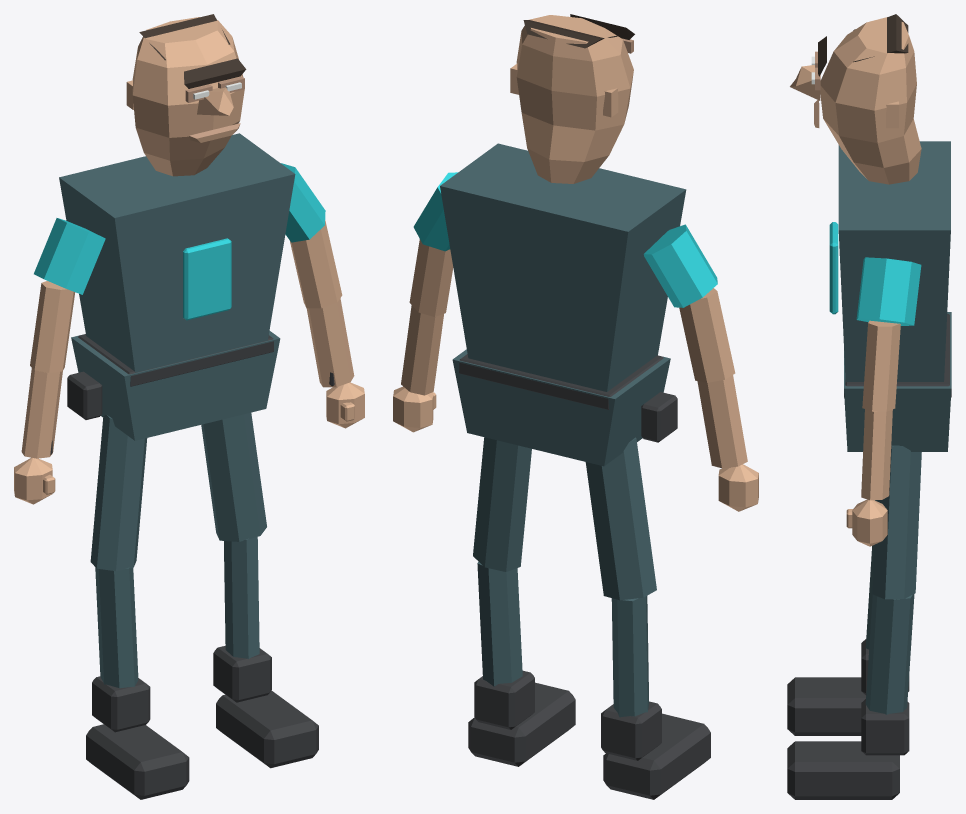
File: lg_duelist_male.glb
3 renders of one model, left to right at view 1: azimuth 30°, elevation 25°; view 2: azimuth 150°, elevation 25°; view 3: azimuth 270°, elevation 25°, orthographic. The views are drawn at different scales.
Parts seen in each view (by area): view 1: LGDuelist_Male_Body; view 2: LGDuelist_Male_Body; view 3: LGDuelist_Male_Body.
Part boxes in pixels (x1,y1,x2,y2): LGDuelist_Male_Body: [14, 14, 364, 799]; LGDuelist_Male_Body: [393, 14, 758, 799]; LGDuelist_Male_Body: [787, 14, 951, 799].
Size of the model in its own units: 0.8501 by 1.67 by 0.343.
